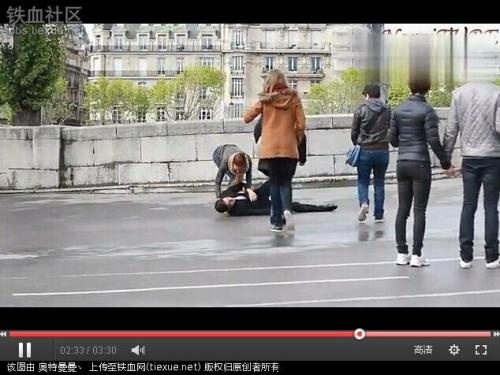falling: (206, 173, 337, 226)
